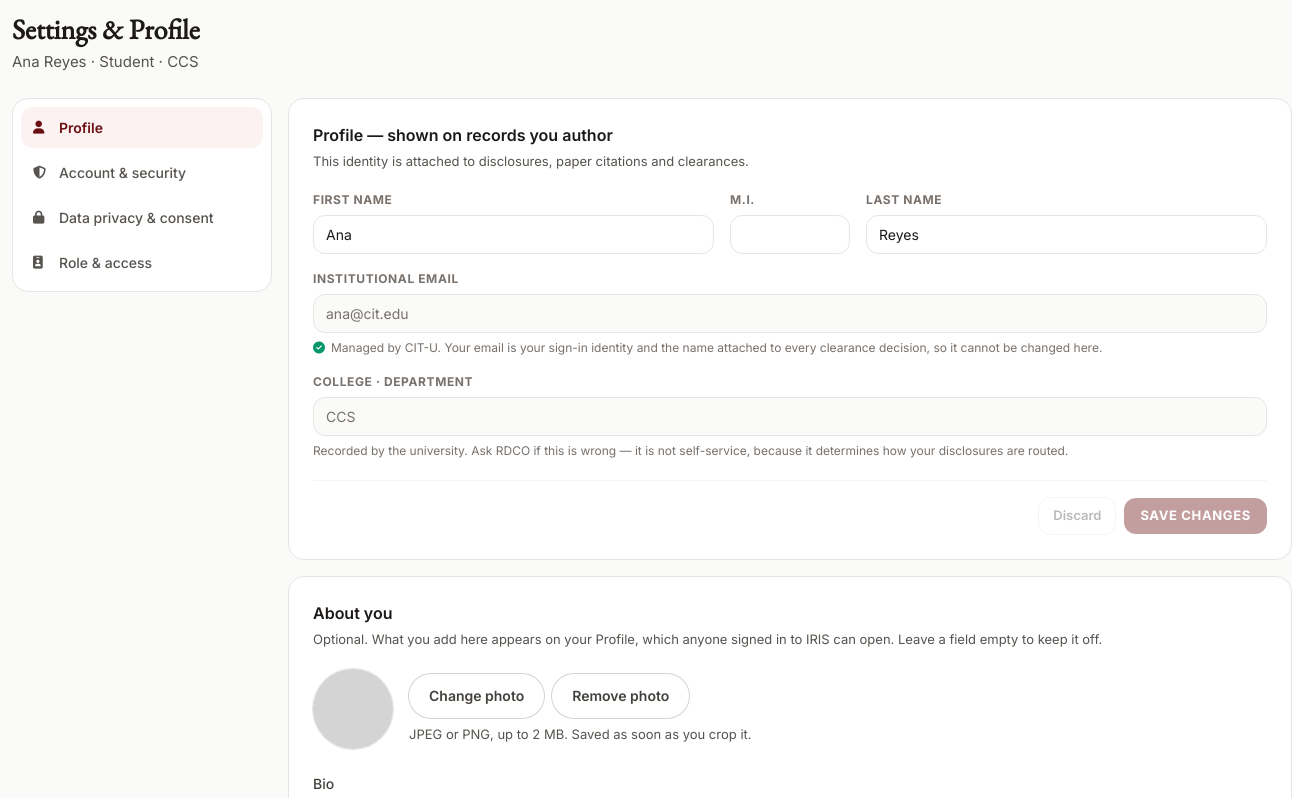
Test case: photo › removes the photo
Step 1. Click the button "Remove photo" → (621, 696), box [552,674,689,718]
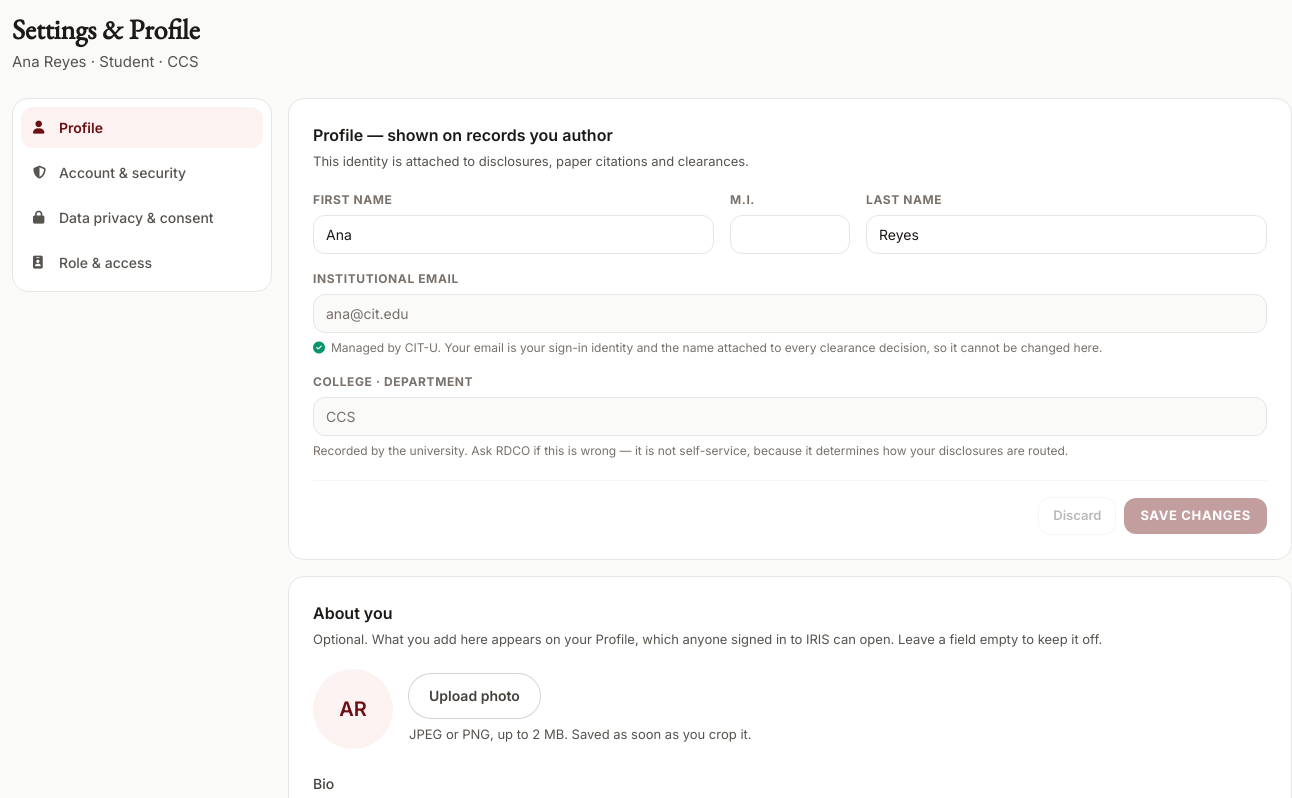
Check: the button "Remove photo" is gone
